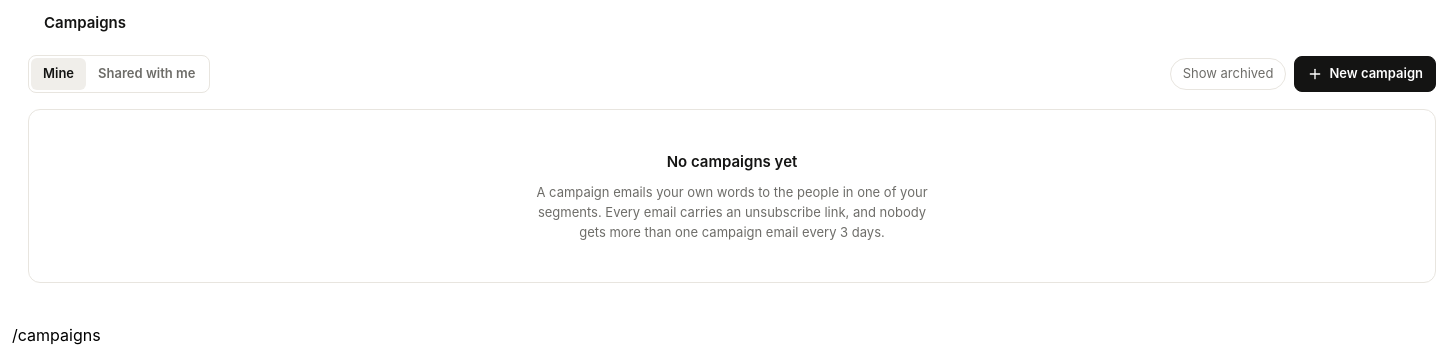
it: /campaigns (spec §2.1) › says there are none yet, with New campaign, and that nothing is shared yet
Expected: the text "No campaigns yet" is shown, [667, 150, 797, 174]
Expected: the number of links "New campaign" is 1, [1294, 56, 1436, 92]
Click the button "Shared with me".
click(147, 74)  # box [86, 58, 207, 90]
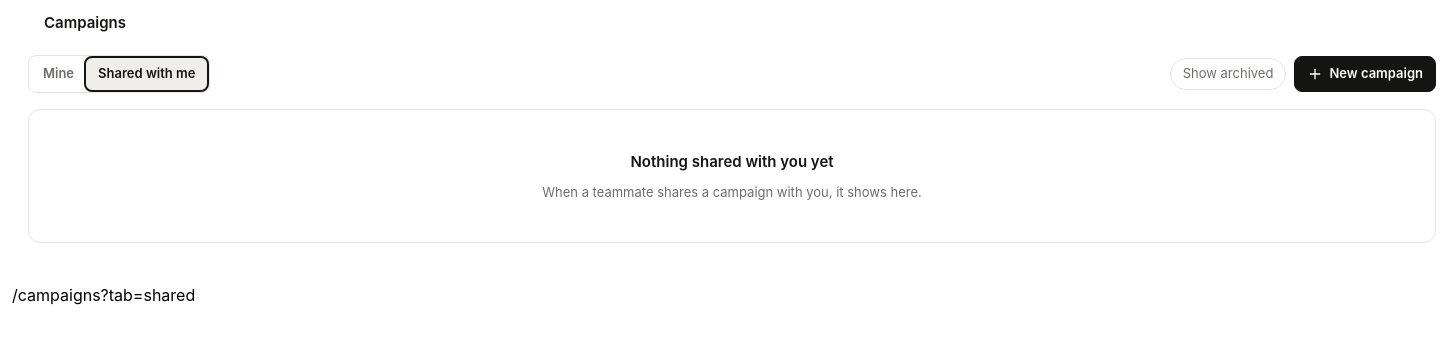
Expected: the text "Nothing shared with you yet" is shown, [630, 150, 834, 174]
